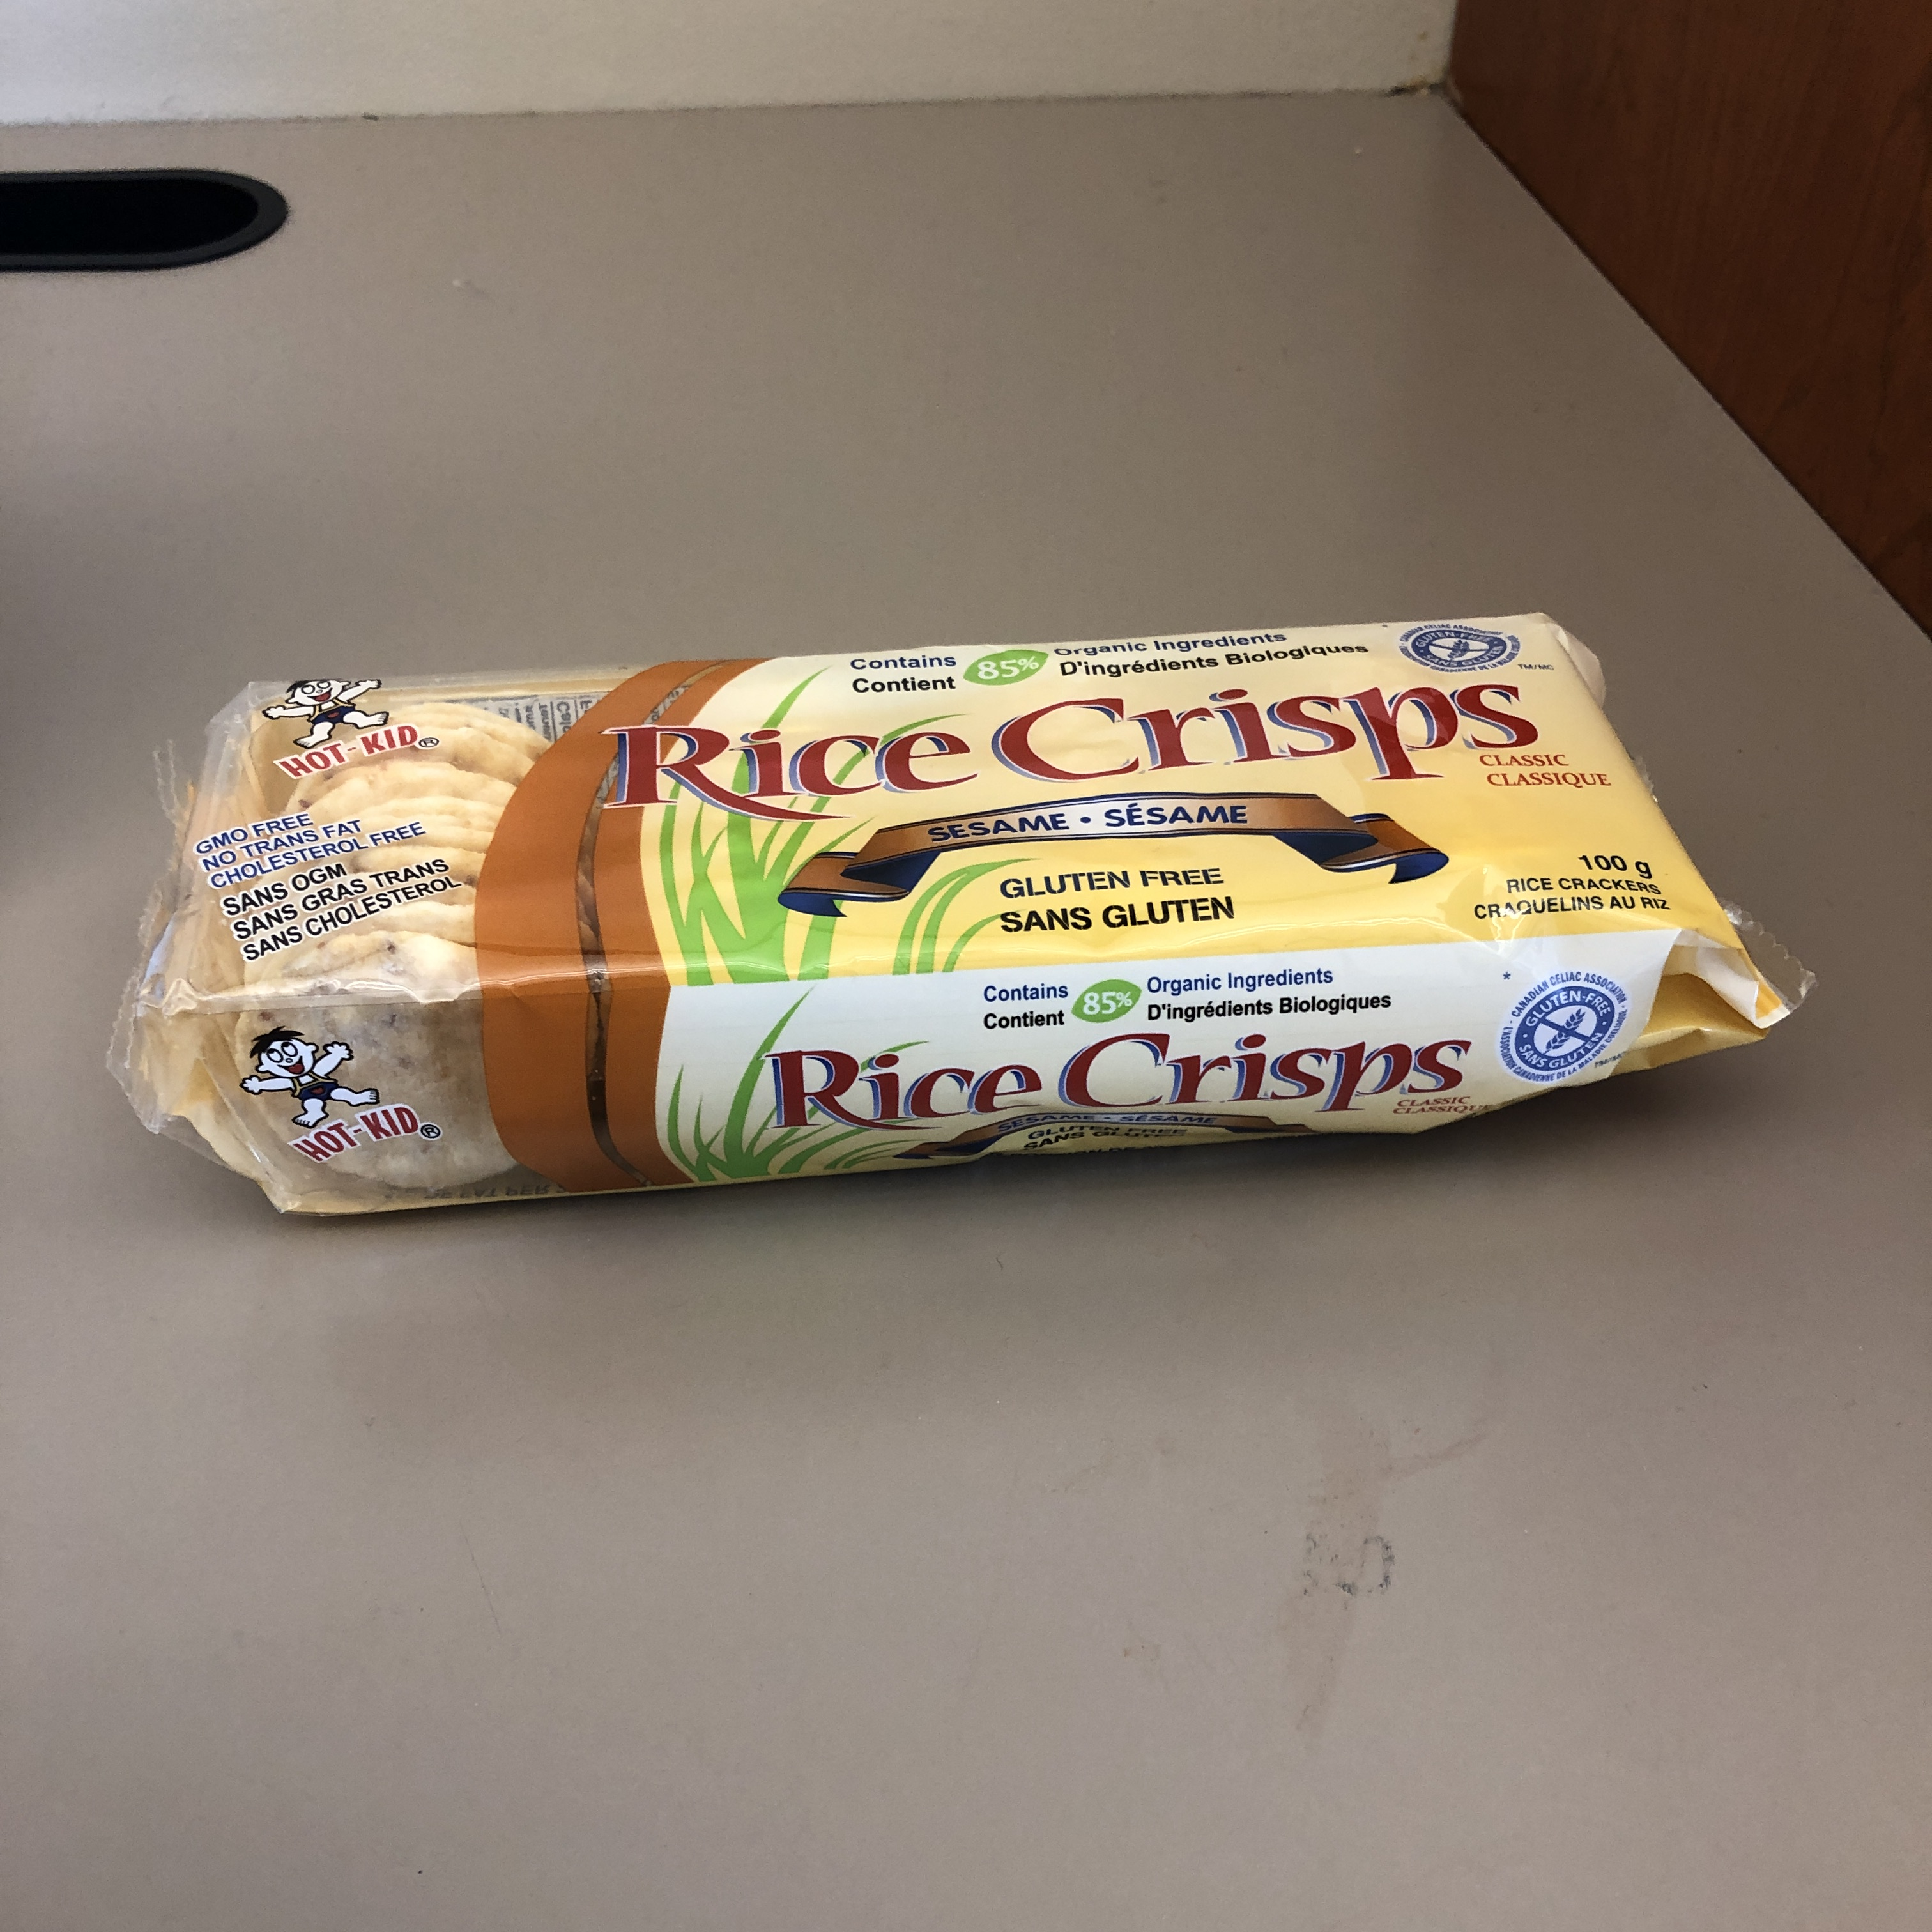hot_kid_rice_crisps_sesame: (618, 280, 1199, 1756)
